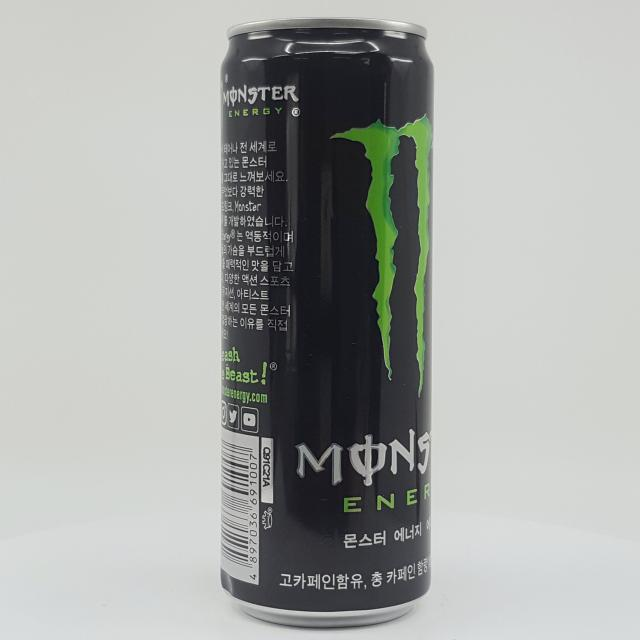--------355ML: (220, 18, 434, 628)
